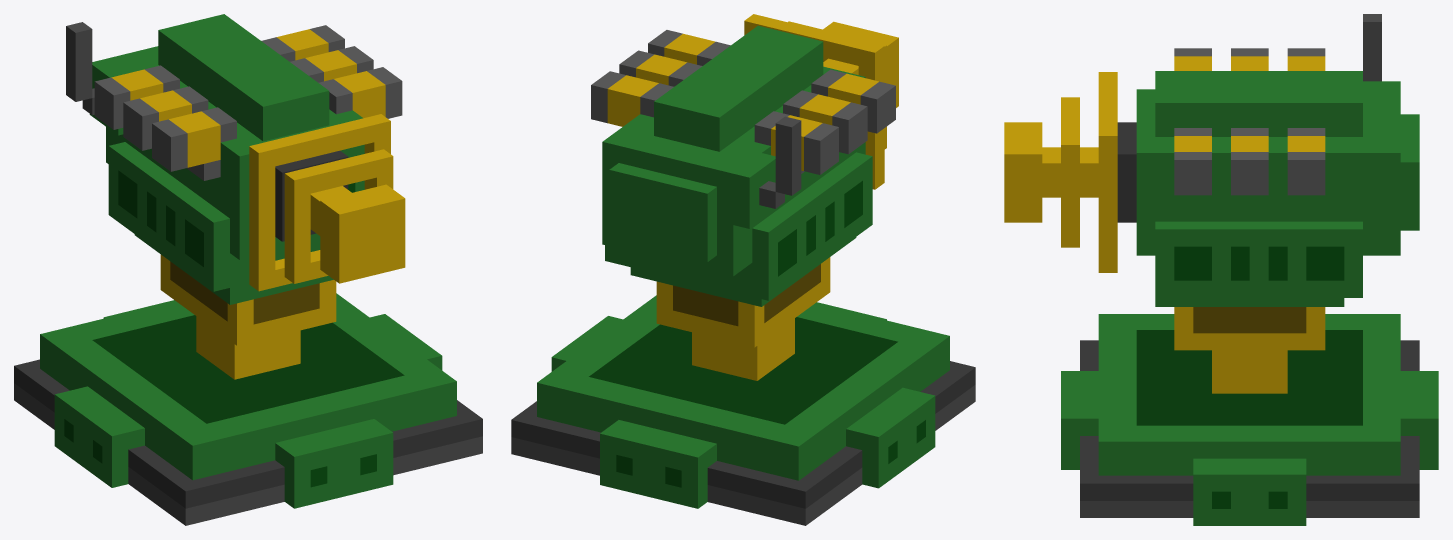
The model's file is Turret(Tower_Defens)-4.obj.
3 views of the same model, side by side, from view 1: azimuth 30°, elevation 25°; view 2: azimuth 150°, elevation 25°; view 3: azimuth 270°, elevation 25° (orthographic).
Bounding box in the file's own units: 2 × 2.2 × 2.3.
1 material, 1 textured.
